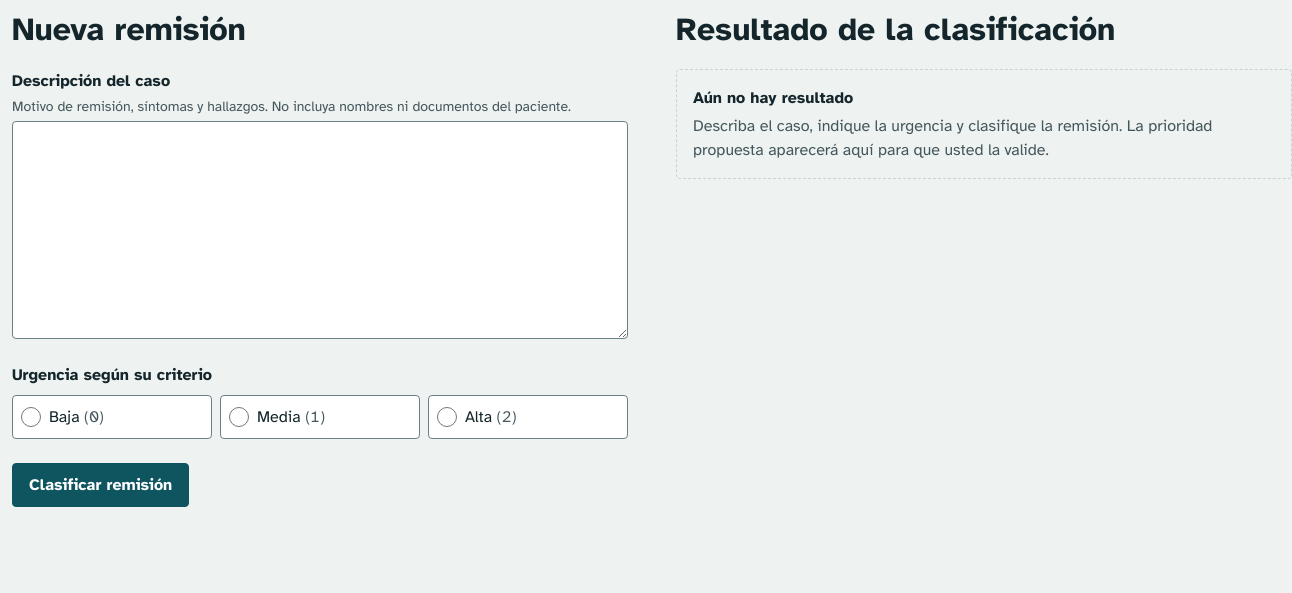
Test: Formulario de remisión › informa el error del servicio y permite reintentar sin reescribir
Step 1. Type "Caso sintético: control por cefalea ocasional sin otros hallazgos." into the text box labelled "Descripción del caso" → (320,230), box [12,121,628,339]
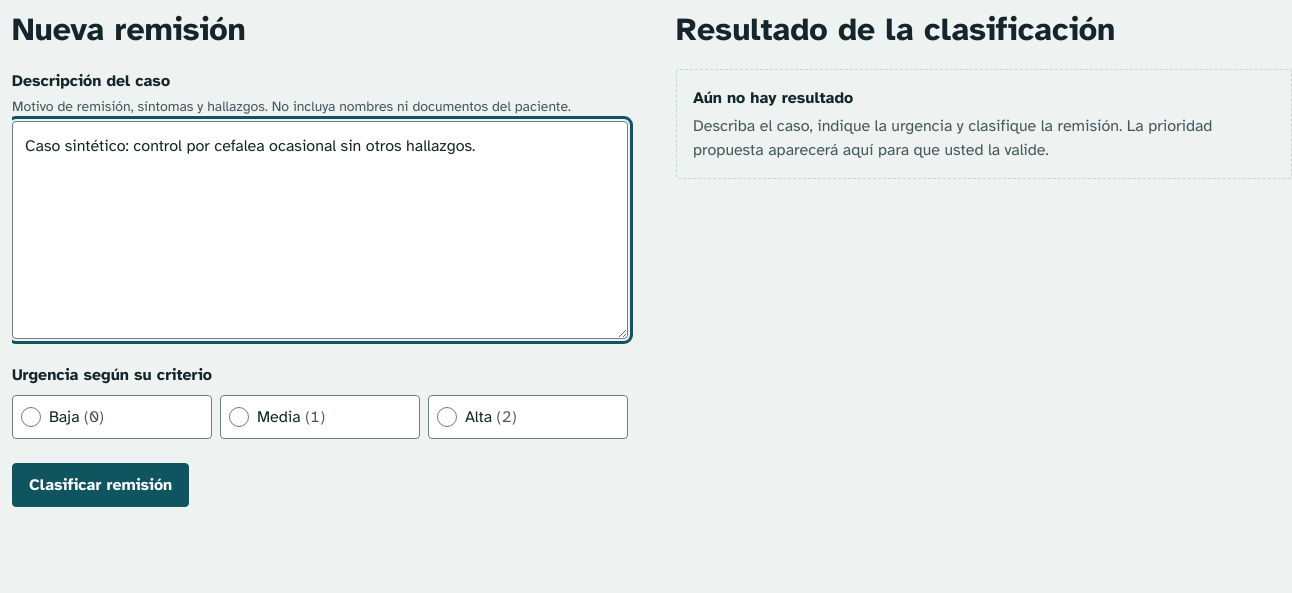
Step 2. Click the radio button labelled "Baja (0)" → (31,417), box [21,407,41,427]
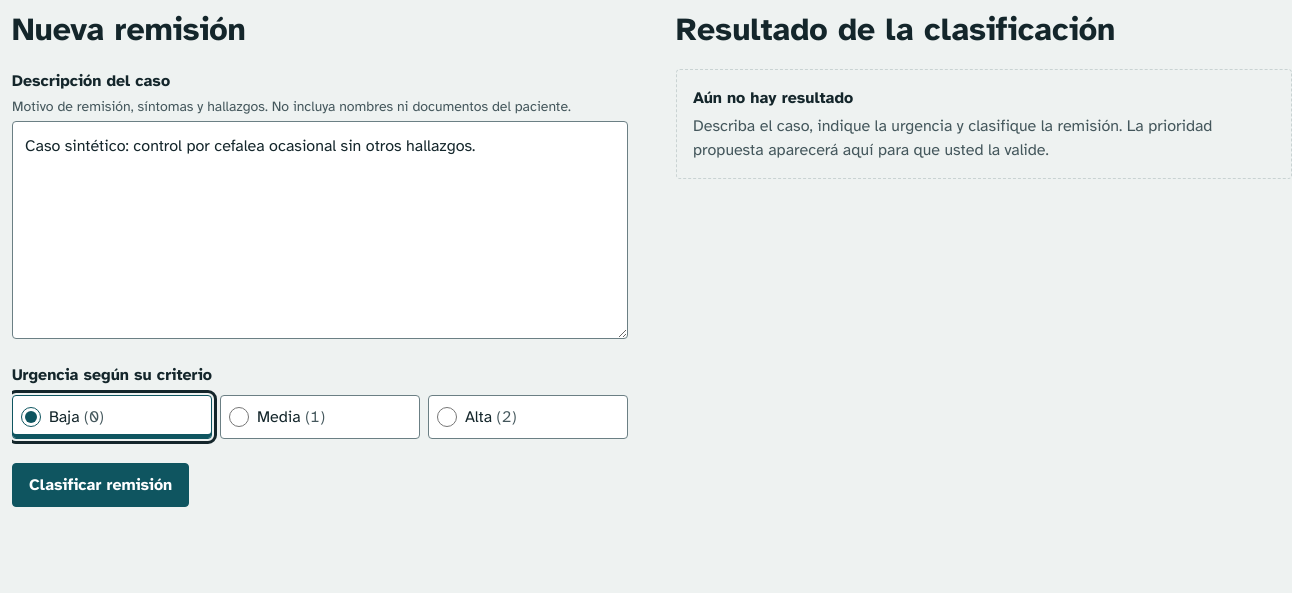
Step 3. Click the button "Clasificar remisión" → (101,485), box [12,463,189,507]
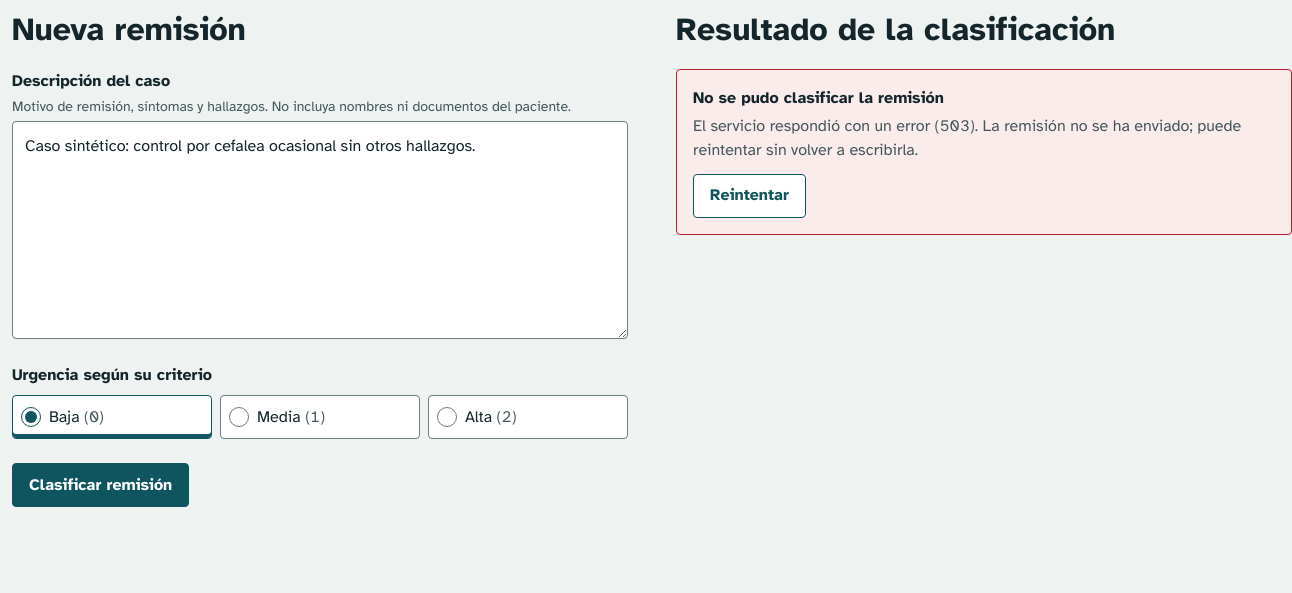
Check: the message shows "No se pudo clasificar la remisión", box [693,88,944,108]
Step 4. Click the button "Reintentar" → (749,196), box [693,174,806,218]
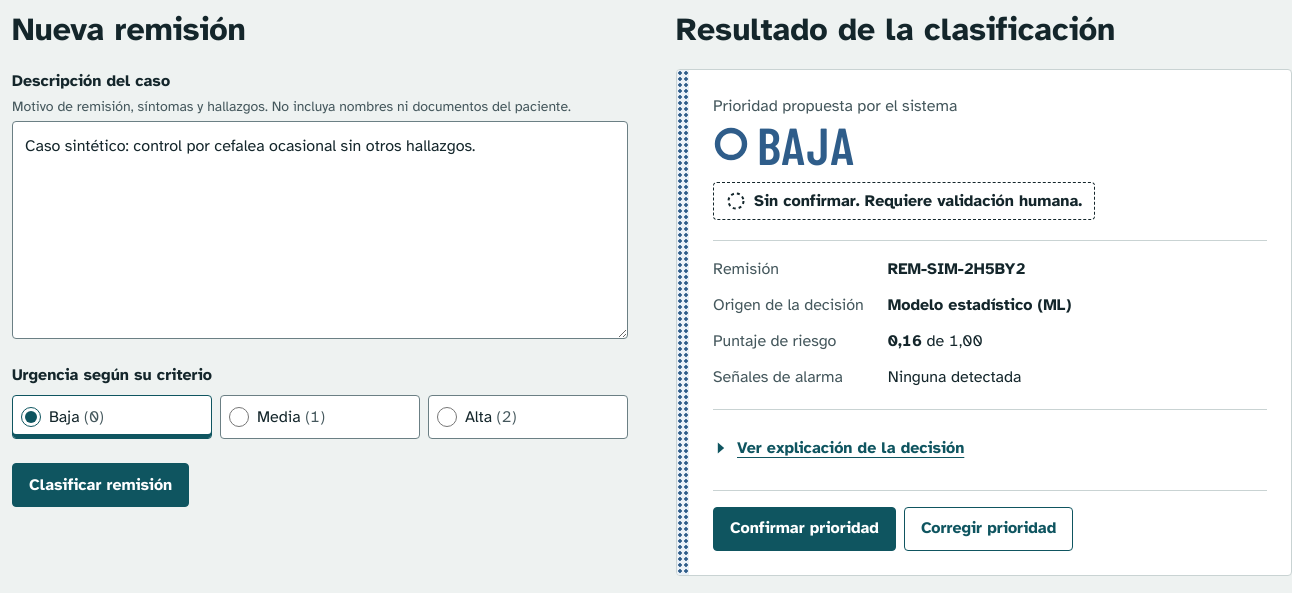
Check: the text "BAJA" is shown, box [757,118,855,170]
